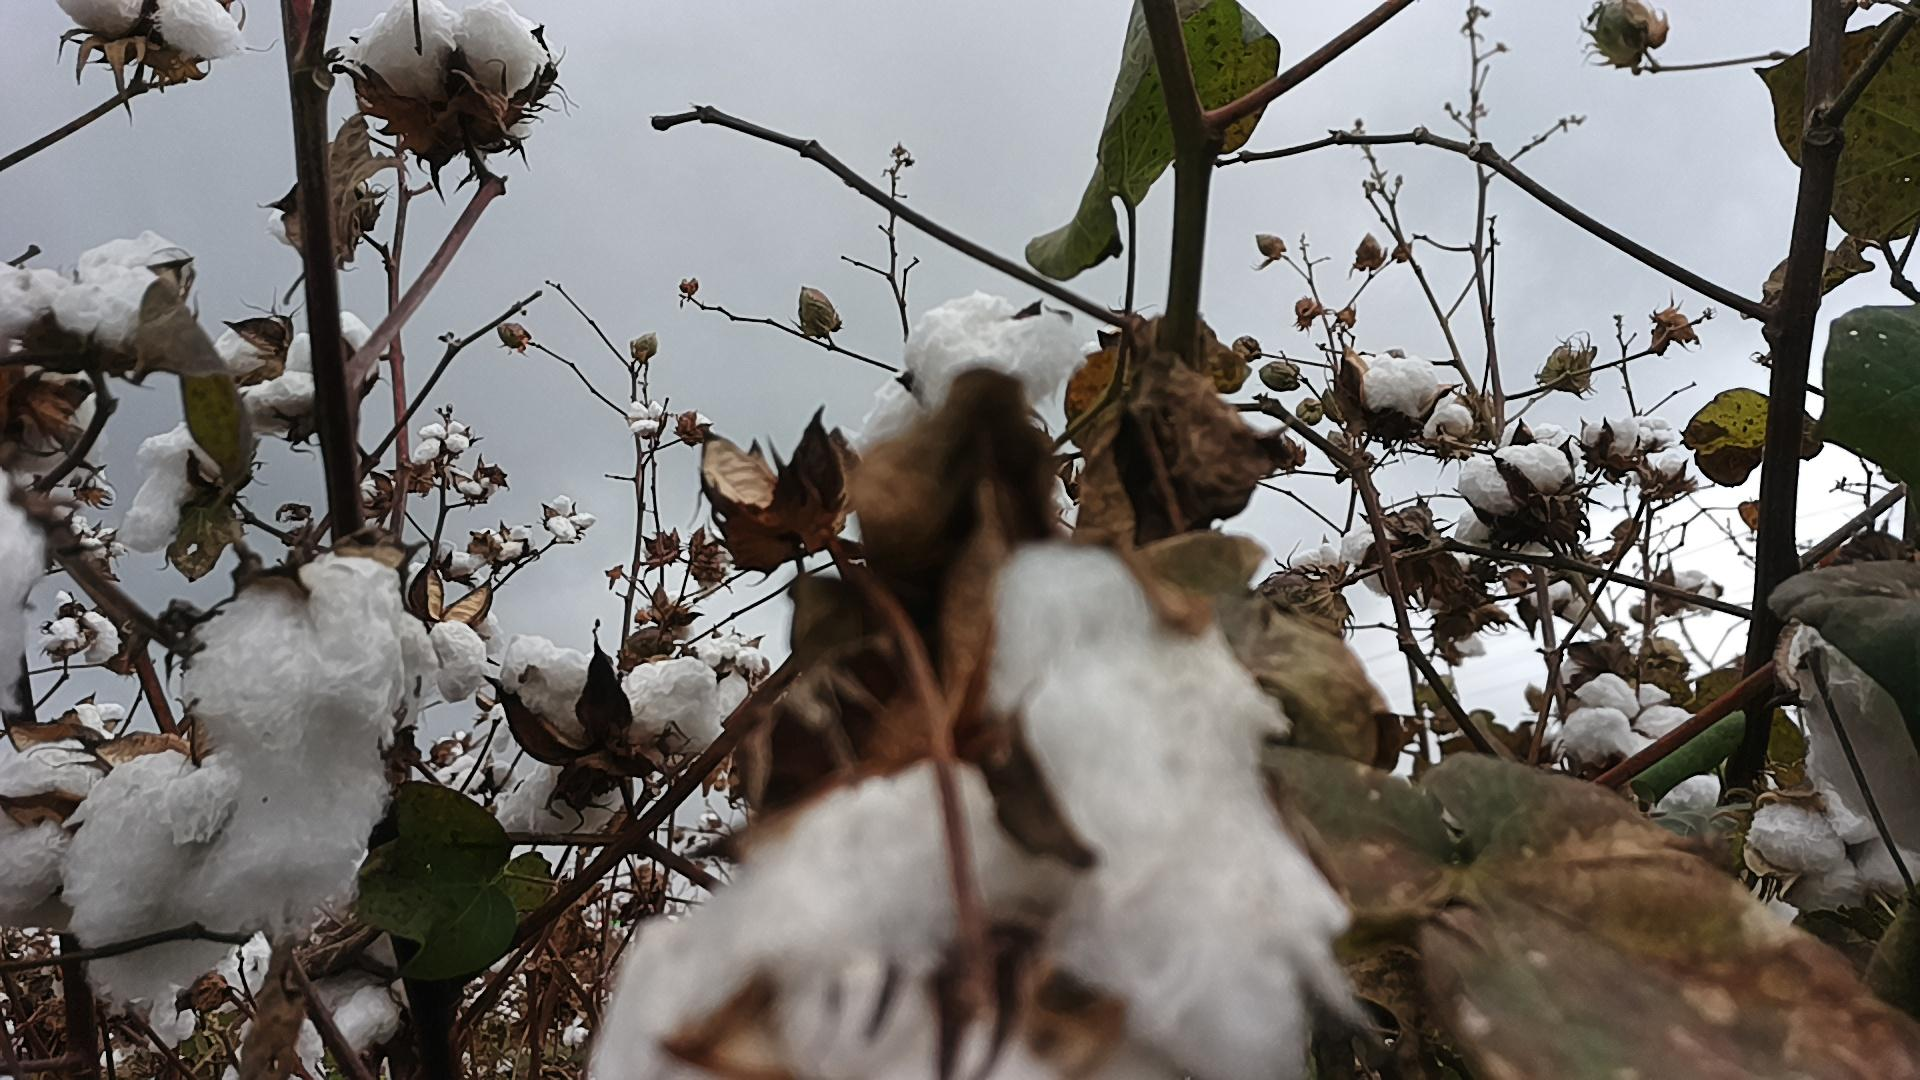cotton_ready: (593, 550, 1353, 1080), (190, 555, 406, 920), (66, 756, 265, 998), (857, 295, 1083, 451), (1793, 621, 1920, 858), (0, 705, 116, 920), (353, 0, 549, 121), (1557, 675, 1722, 815), (1746, 790, 1920, 913), (0, 233, 173, 347), (262, 851, 398, 943), (248, 315, 373, 413), (59, 0, 251, 61), (500, 636, 600, 749), (0, 471, 46, 713), (622, 658, 725, 753), (120, 423, 196, 550), (493, 767, 616, 845), (1457, 440, 1573, 520), (402, 613, 502, 702), (299, 985, 407, 1067), (44, 589, 120, 669), (264, 186, 348, 256), (1362, 356, 1437, 423), (1345, 524, 1406, 599), (218, 318, 268, 381)
